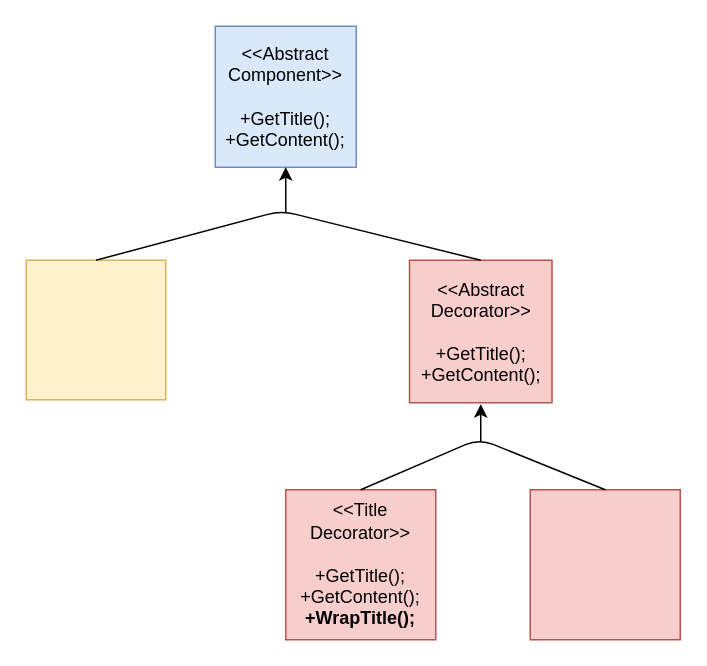
Image size: 707x666. Some labels were removed from this diagram. The shapes that lost their labels are listed below. From the top down, each one's centre as x and y in pixels, then its label:
(95,329): <<Article>> +GetTitle(); +GetContent();
(604,564): <<Content Decorator>> +GetTitle(); +GetContent(); +WrapContent();
